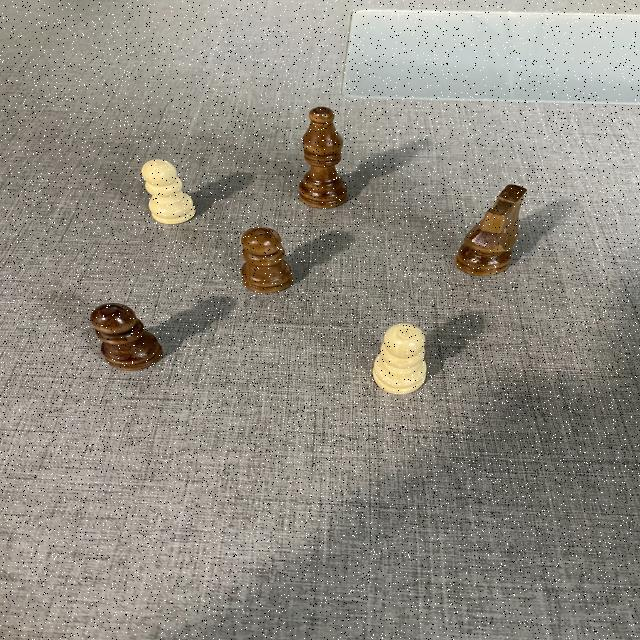Black-Bishop: (298, 106, 349, 210)
Black-Knight: (456, 180, 530, 276)
Black-Pawn: (91, 301, 161, 371), (240, 228, 288, 294)
White-Pawn: (374, 324, 428, 394), (142, 158, 196, 226)
